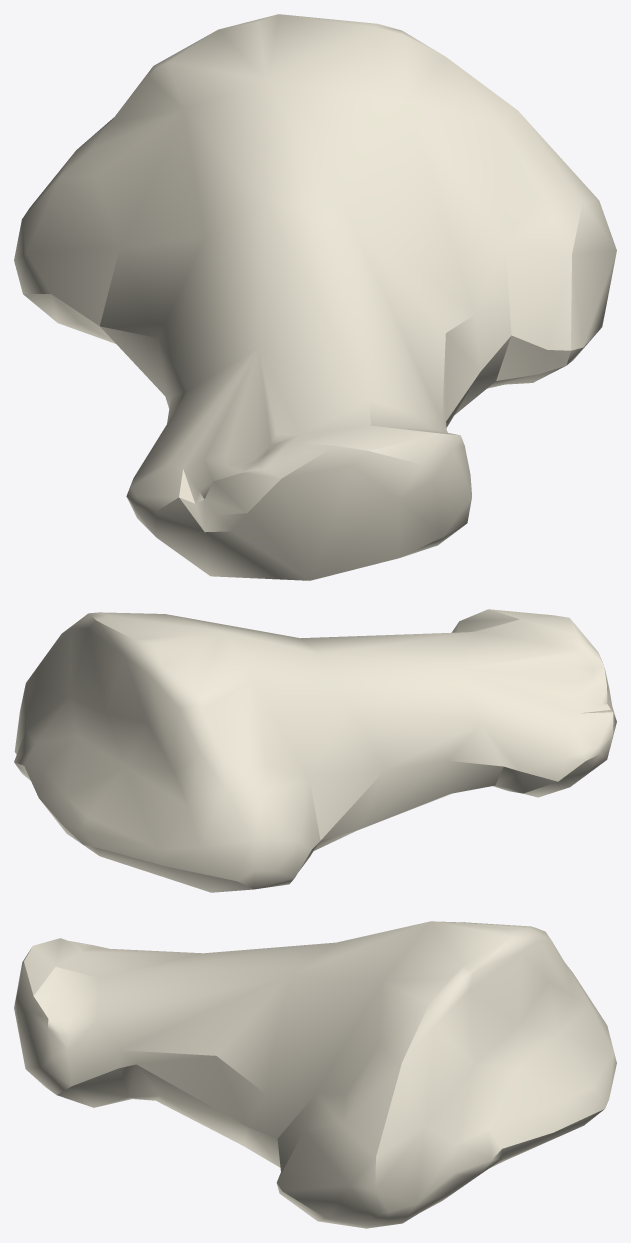
The model's file is fma32650_fj3192.glb.
The picture shows the model from 3 angles, top to bottom: view 1: azimuth 30°, elevation 25°; view 2: azimuth 150°, elevation 25°; view 3: azimuth 270°, elevation 25°; orthographic projection. The views are drawn at different scales.
Parts seen in each view (by area): view 1: FMA32650_FJ3192; view 2: FMA32650_FJ3192; view 3: FMA32650_FJ3192.
Boxes of the visible parts, x1,y1,x2,y2 form: FMA32650_FJ3192: [14, 14, 616, 580]; FMA32650_FJ3192: [14, 609, 616, 892]; FMA32650_FJ3192: [14, 921, 616, 1228].
Size of the model in its own units: 0.0227 by 0.0109 by 0.0253.
